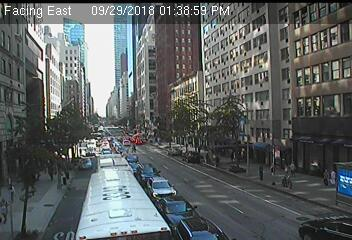car: (78, 173, 169, 240), (154, 195, 201, 232), (298, 213, 352, 240), (173, 217, 227, 240), (96, 154, 133, 183), (147, 176, 176, 201), (135, 163, 159, 183), (183, 152, 200, 163), (79, 158, 92, 169), (86, 139, 96, 152), (129, 162, 141, 171), (125, 155, 137, 163), (167, 148, 179, 155), (100, 148, 111, 155)
